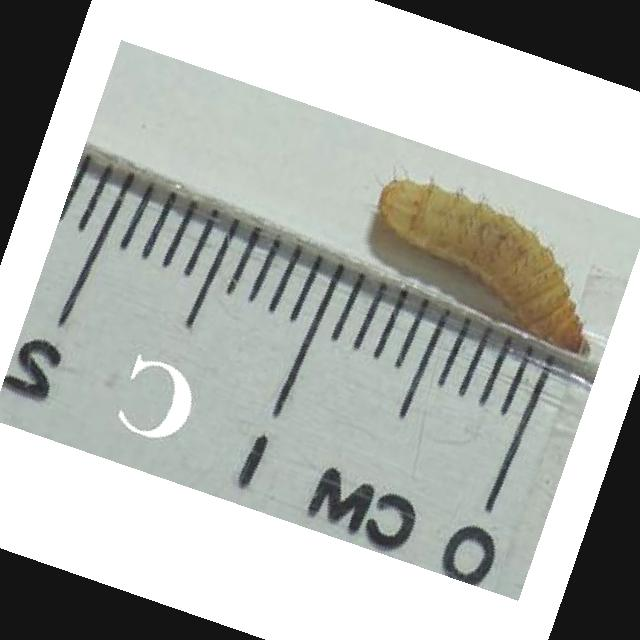Maggot: (375, 168, 595, 362)
